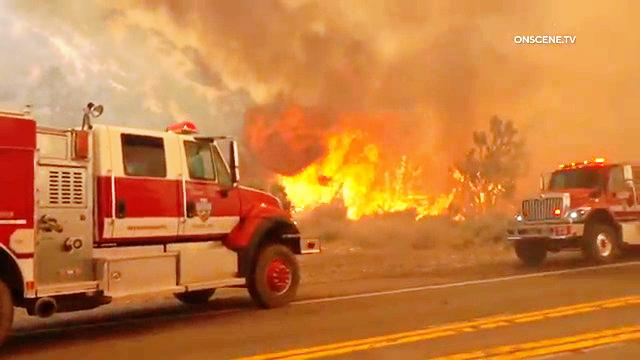fire: (290, 109, 407, 224)
